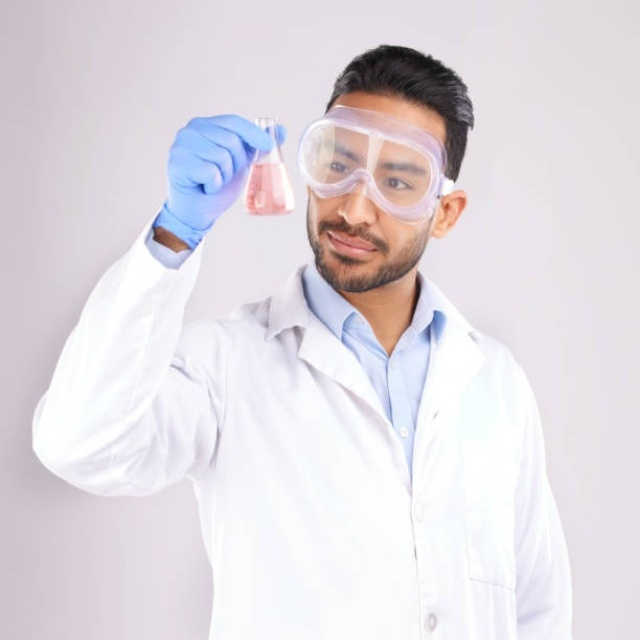Gafas: (298, 106, 455, 223)
Guantes: (154, 113, 280, 251)
Sin_mascara: (321, 224, 387, 280)
